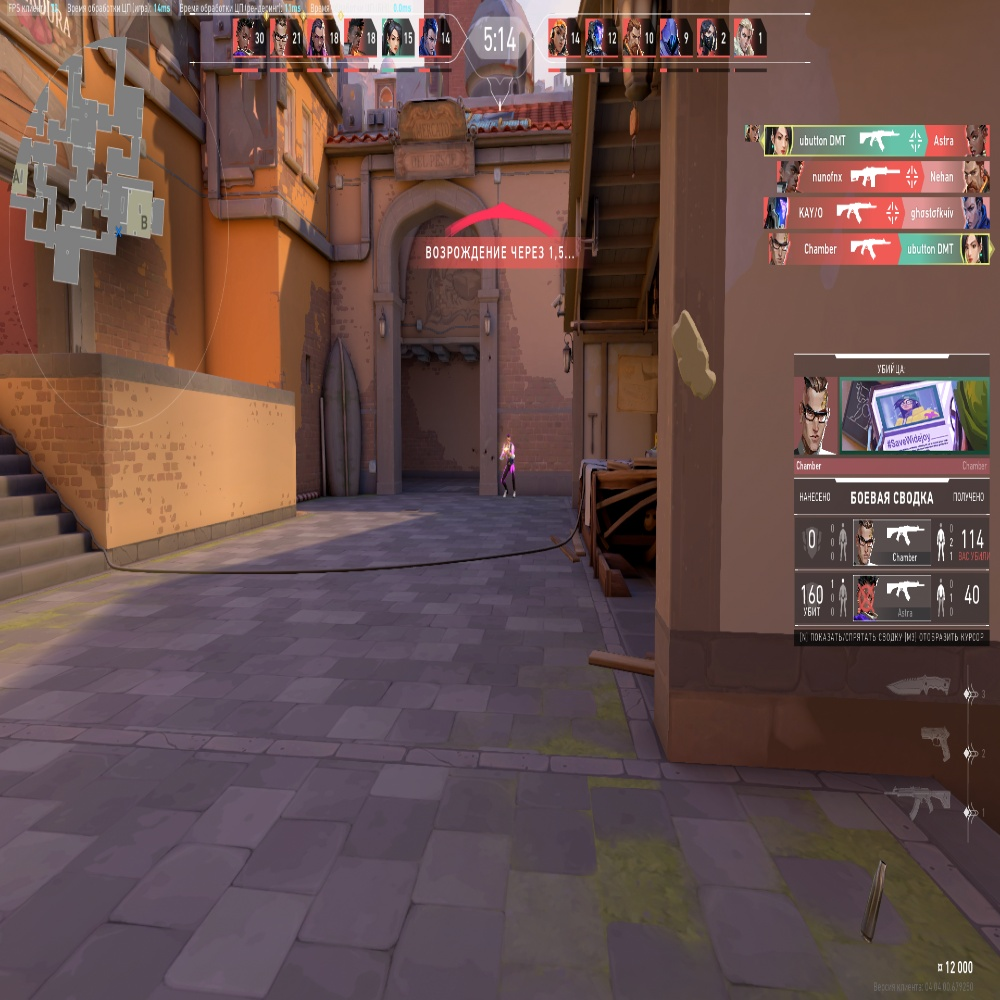body: (503, 446, 515, 467)
head: (506, 435, 510, 444)
